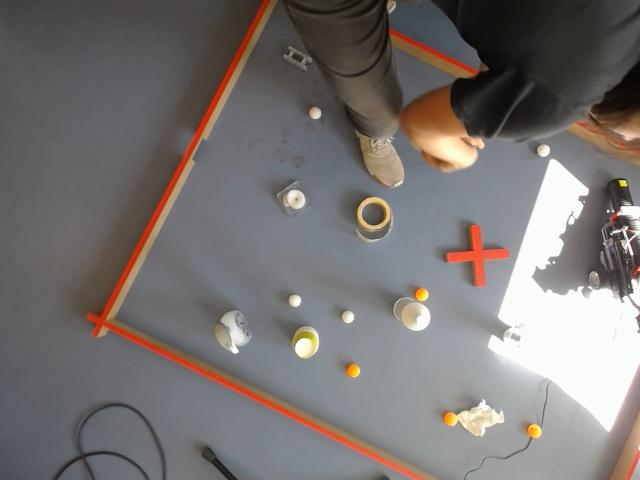orange: (526, 423, 542, 440), (414, 286, 430, 302), (443, 411, 458, 427), (346, 363, 360, 378)
robot: (589, 178, 640, 330)
robot-front: (608, 178, 632, 207)
white: (287, 292, 303, 309), (340, 309, 356, 325), (535, 142, 551, 158), (308, 105, 322, 122)
